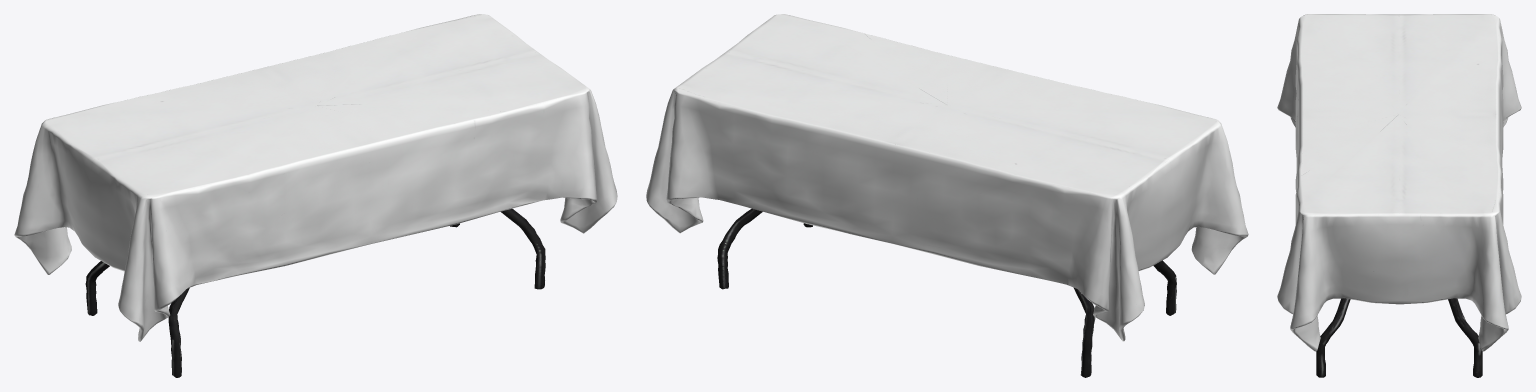
The model's file is WHT_REC_TBLE_BLK_LINEn_0630193814_texture.glb.
3 renders of one model, left to right at view 1: azimuth 30°, elevation 25°; view 2: azimuth 150°, elevation 25°; view 3: azimuth 270°, elevation 25°, orthographic. The views are drawn at different scales.
Visible parts, largest first — view 1: Mesh_0.001; view 2: Mesh_0.001; view 3: Mesh_0.001.
Boxes of the visible parts, box(x1,y1,x2,y2) form: Mesh_0.001: box(14, 14, 617, 377); Mesh_0.001: box(646, 14, 1248, 377); Mesh_0.001: box(1277, 14, 1521, 377).
Size of the model in its own units: 2.01 by 0.762 by 0.9268.
Materials: 1 (1 with a texture image).
